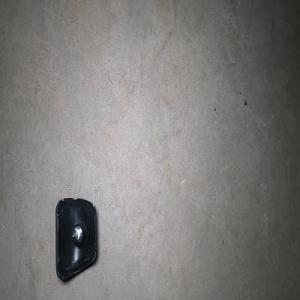LuggagePart: (54, 196, 98, 281)
